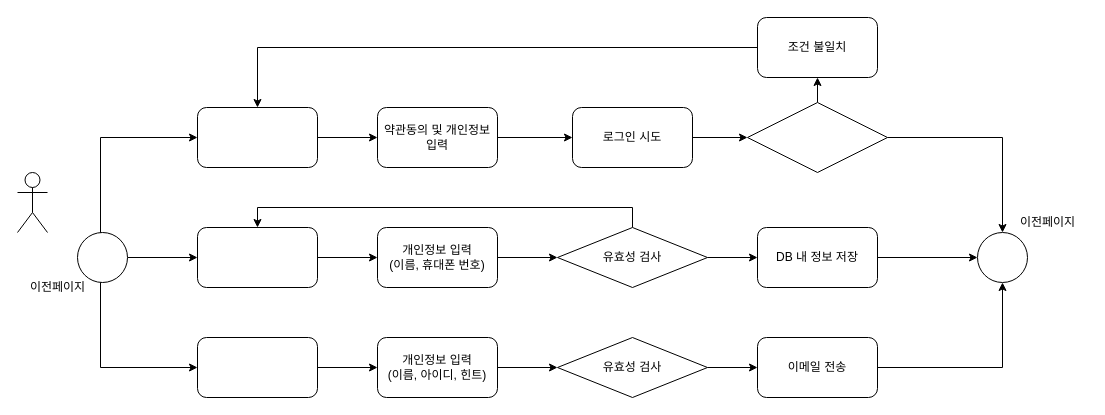
Image size: 1105x415. Some labels were removed from this diagram. Here are the shapes that lost their labels. From the top down, the box of each, then its label:
(196, 106, 318, 168): 아이디/비밀번호 입력
(746, 102, 888, 172): DB 조건 확인
(16, 172, 48, 232): Actor
(196, 226, 318, 288): 회원가입 클릭
(196, 336, 318, 398): 아이디/비밀번호 찾기 클릭
